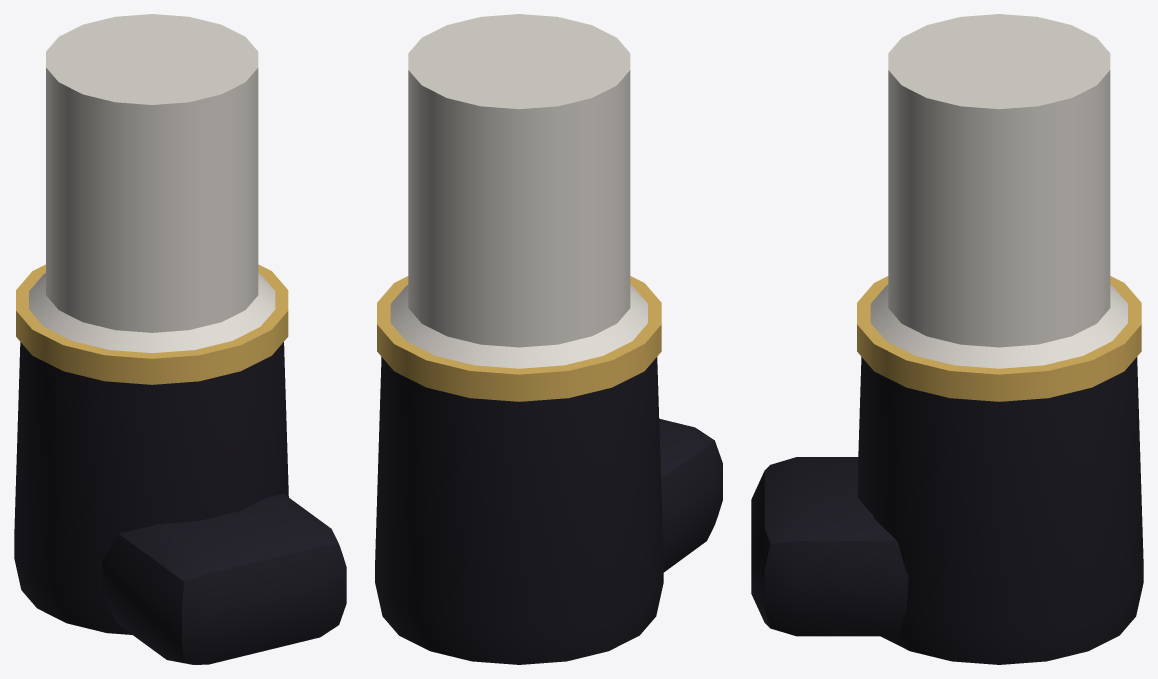
Rendered from Tin_Foot.fbx.
3 views of the same model, side by side, from view 1: azimuth 30°, elevation 25°; view 2: azimuth 150°, elevation 25°; view 3: azimuth 270°, elevation 25° (orthographic). The views are drawn at different scales.
Visible parts, largest first — view 1: Tin_Foot; view 2: Tin_Foot; view 3: Tin_Foot.
Part boxes in pixels (left/top/right/bottom): Tin_Foot: left=14, top=14, right=346, bottom=664; Tin_Foot: left=375, top=14, right=722, bottom=664; Tin_Foot: left=751, top=14, right=1143, bottom=664.
Bounding box in the file's own units: 0.078 × 0.16 × 0.1044.
